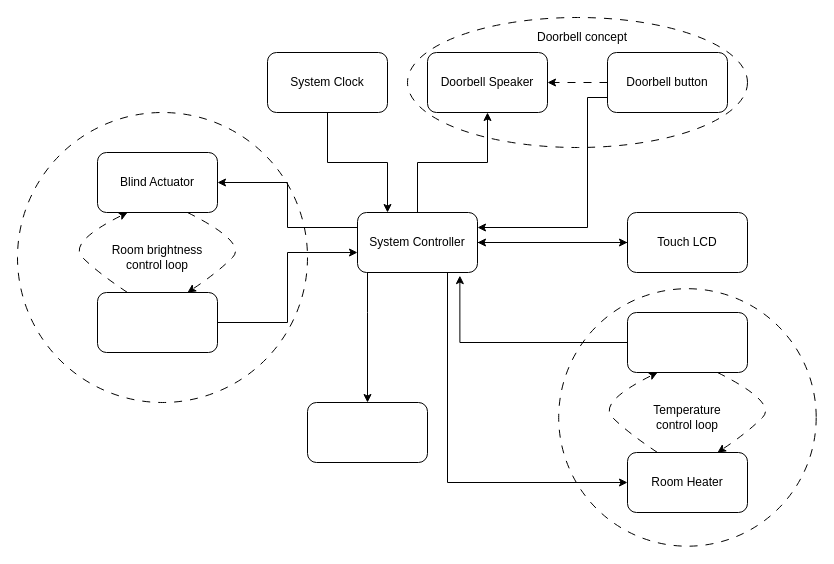
This 834x564 diagram has some shape labels left out. Each missing label, with the centre of its shape:
"Ambient Light Sensor" goes at (157,322).
"Smart Plug (Coffee Machine)" goes at (367,432).
"Temperature Sensor" goes at (687,342).
